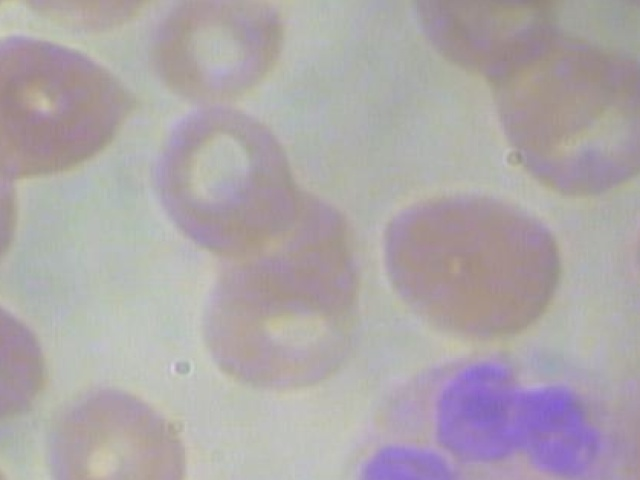RBC: (373, 170, 575, 355), (197, 241, 361, 404), (142, 97, 306, 259), (495, 34, 640, 194), (0, 24, 138, 178), (147, 0, 294, 113), (37, 378, 187, 480), (0, 132, 20, 290), (623, 181, 640, 353), (0, 407, 20, 480)
WBC: (319, 330, 640, 480)
